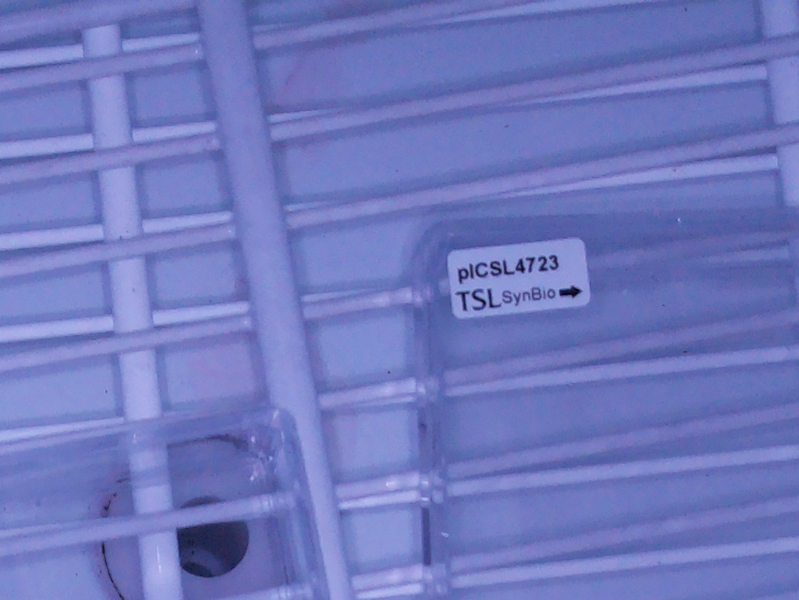plate: (406, 204, 799, 600), (1, 404, 314, 600)
